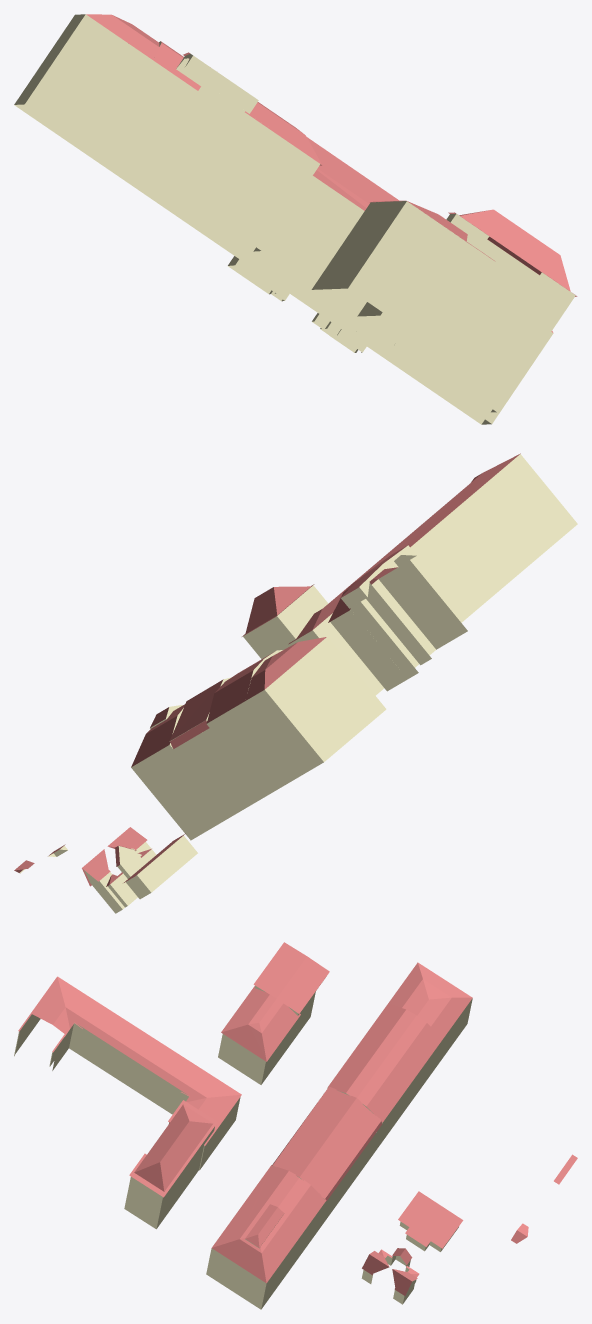
File: tile_072.glb
3 views of the same model, one above another, from view 1: azimuth 30°, elevation 25°; view 2: azimuth 150°, elevation 25°; view 3: azimuth 270°, elevation 25° (orthographic). The views are drawn at different scales.
Visible parts, largest first — view 1: Batched_Building_ID_42304ACA-B359-4A0B-9D15-33FCBC24BB5A; view 2: Batched_Building_ID_42304ACA-B359-4A0B-9D15-33FCBC24BB5A; view 3: Batched_Building_ID_42304ACA-B359-4A0B-9D15-33FCBC24BB5A.
Part boxes in pixels (<box>): Batched_Building_ID_42304ACA-B359-4A0B-9D15-33FCBC24BB5A: <box>14,14,577,424</box>; Batched_Building_ID_42304ACA-B359-4A0B-9D15-33FCBC24BB5A: <box>14,453,577,913</box>; Batched_Building_ID_42304ACA-B359-4A0B-9D15-33FCBC24BB5A: <box>14,942,577,1309</box>.
Size of the model in its own units: 103 by 103 by 187.
